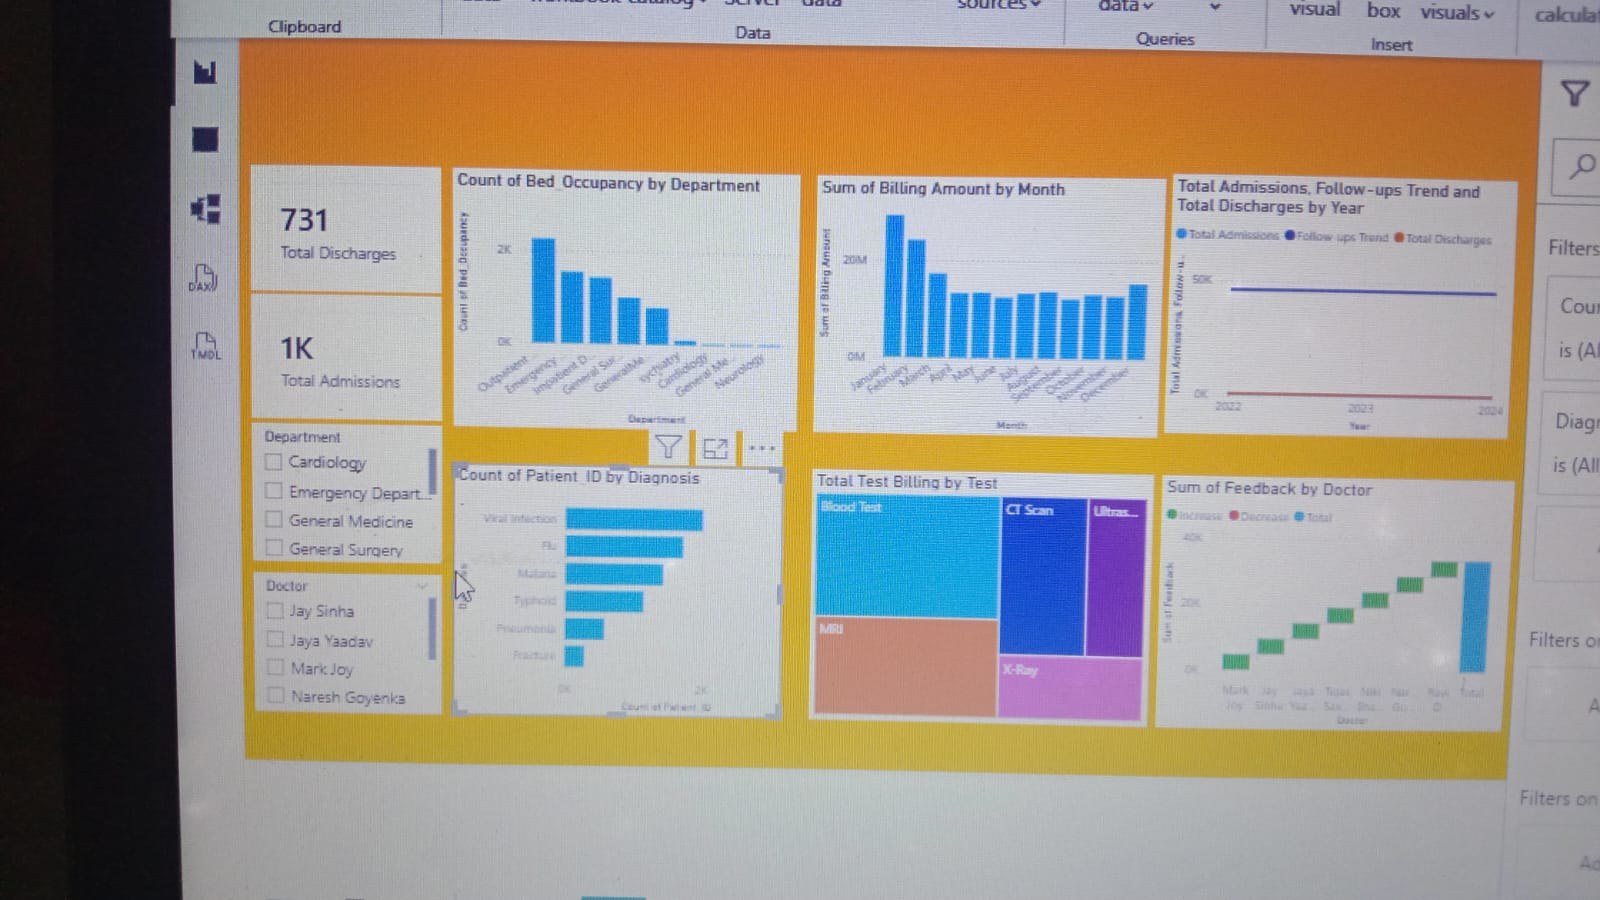

Layout of this report page (visuals, bound fields, positions):
{"tool":"powerbi","page":{"name":"Page 1","canvas":[1280,720],"ordinal":0},"visuals":[{"type":"cardVisual","fields":{"Data":["Table1 (2).Total Admissions"]},"box":[11.8,250.9,188.6,122.9],"z":0},{"type":"cardVisual","fields":{"Data":["Table1 (2).Total Discharges"]},"box":[11.8,124.6,188.6,122.9],"z":1000},{"type":"columnChart","title":"Bed occupancy across departments ","fields":{"Y":["Table1 (2).Bed_Occupancy"],"Category":["Table1 (2).Department"]},"box":[212.2,124.6,341.9,254.3],"z":2000},{"type":"barChart","title":"Most common diagnosis types","fields":{"Category":["Table1 (2).Diagnosis"],"Y":["Table1 (2).Patient_ID"]},"box":[212.2,416,341.9,254.3],"z":3000},{"type":"clusteredBarChart","title":"Billing amount vs Health insurance ","fields":{"Category":["Table1 (2).Admit_Date.Variation.Date Hierarchy.Month"],"Y":["Table1 (2).Billing Amount","Table1 (2).Health Insurance Amount"]},"box":[570.9,124.6,341.9,254.3],"z":4000},{"type":"waterfallChart","title":"Doctors with highest patient feedback ","fields":{"Category":["Table1 (2).Doctor"],"Y":["Table1 (2).Feedback"]},"box":[919.8,416.7,347.2,253.7],"z":5000},{"type":"lineChart","title":"Trends Over Time","fields":{"Y":["Table1 (2).Total Admissions","Table1 (2).Follow-ups Trend","Table1 (2).Total Discharges"],"Category":["Table1 (2).Admit_Date.Variation.Date Hierarchy.Year"]},"box":[924.6,124.6,341.9,254.3],"z":6000},{"type":"treemap","title":"Medical tests ","fields":{"Group":["Table1 (2).Test"],"Values":["Table1 (2).Total Test Billing"]},"box":[570.9,416,341.9,254.3],"z":7000},{"type":"slicer","fields":{"Values":["Table1 (2).Department"]},"box":[11.8,378.9,188.6,138.1],"z":8000},{"type":"slicer","fields":{"Values":["Table1 (2).Doctor"]},"box":[11.8,528.8,188.6,141.5],"z":9000},{"type":"shape","title":"APOLLO HOSPITAL PERFORMANCE","box":[11.8,0,1232.8,106.1],"z":10000}]}

Visuals, with their boxes on the page's 1280x720 design canvas (x1, y1, x2, y2). These are canvas units, not pixel positions in the 1600x900 screenshot, which may show the page scaled, cropped or inside an application window:
cardVisual - Table1 (2).Total Admissions: (left=12, top=251, right=200, bottom=374)
cardVisual - Table1 (2).Total Discharges: (left=12, top=125, right=200, bottom=248)
"Bed occupancy across departments " columnChart: (left=212, top=125, right=554, bottom=379)
"Most common diagnosis types" barChart: (left=212, top=416, right=554, bottom=670)
"Billing amount vs Health insurance " clusteredBarChart: (left=571, top=125, right=913, bottom=379)
"Doctors with highest patient feedback " waterfallChart: (left=920, top=417, right=1267, bottom=670)
"Trends Over Time" lineChart: (left=925, top=125, right=1266, bottom=379)
"Medical tests " treemap: (left=571, top=416, right=913, bottom=670)
slicer - Table1 (2).Department: (left=12, top=379, right=200, bottom=517)
slicer - Table1 (2).Doctor: (left=12, top=529, right=200, bottom=670)
"APOLLO HOSPITAL PERFORMANCE" shape: (left=12, top=0, right=1245, bottom=106)
